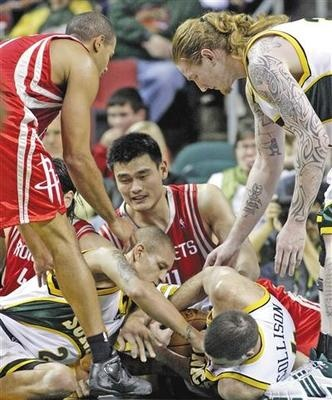falling: (170, 258, 332, 397)
